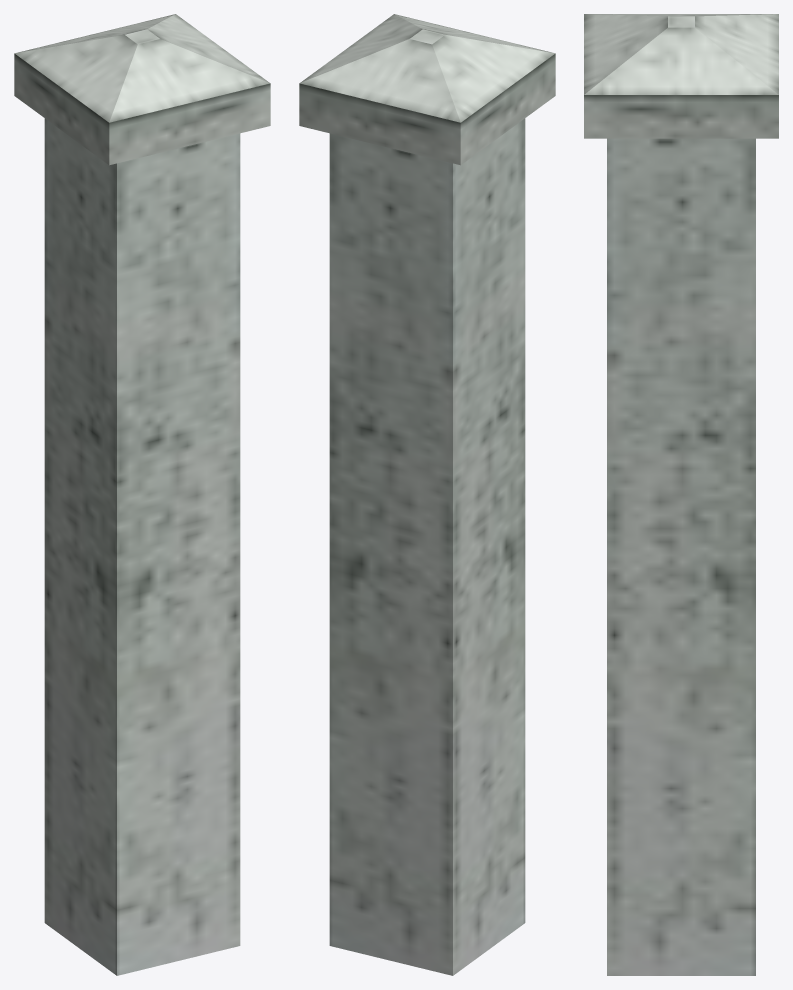
Rendered from white_picket_fence_pole.fbx.
3 views of the same model, side by side, from view 1: azimuth 30°, elevation 25°; view 2: azimuth 150°, elevation 25°; view 3: azimuth 270°, elevation 25° (orthographic). The views are drawn at different scales.
Parts seen in each view (by area): view 1: white_picket_fence_pole; view 2: white_picket_fence_pole; view 3: white_picket_fence_pole.
Part boxes in pixels (x1,y1,x2,y2): white_picket_fence_pole: [14, 14, 270, 975]; white_picket_fence_pole: [299, 14, 555, 975]; white_picket_fence_pole: [584, 14, 778, 975].
Size of the model in its own units: 25.7 by 137 by 26.13.
Materials: 1 (1 with a texture image).
